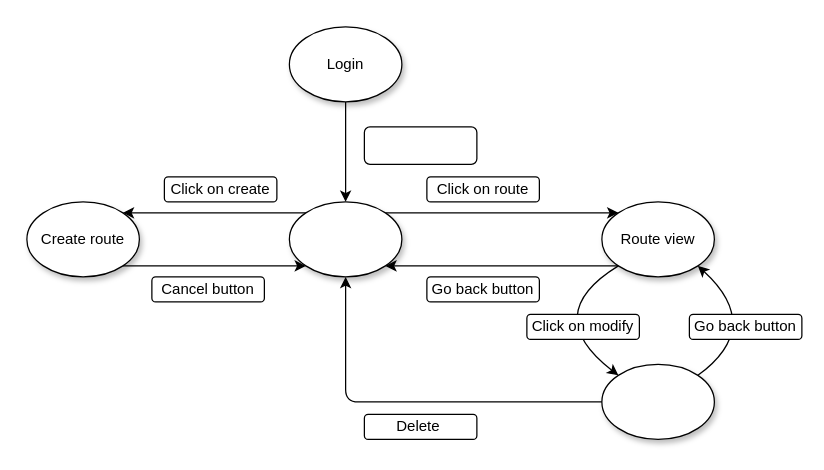
Image size: 824x470. Some labels were removed from this diagram. The shapes that lost their labels are listed below. From the top down, each one's centre as x and y in pixels, then its label:
At (x=420, y=145): "Administrator logged up".
At (x=346, y=241): "Routes list view".
At (x=659, y=403): "Modify route".
